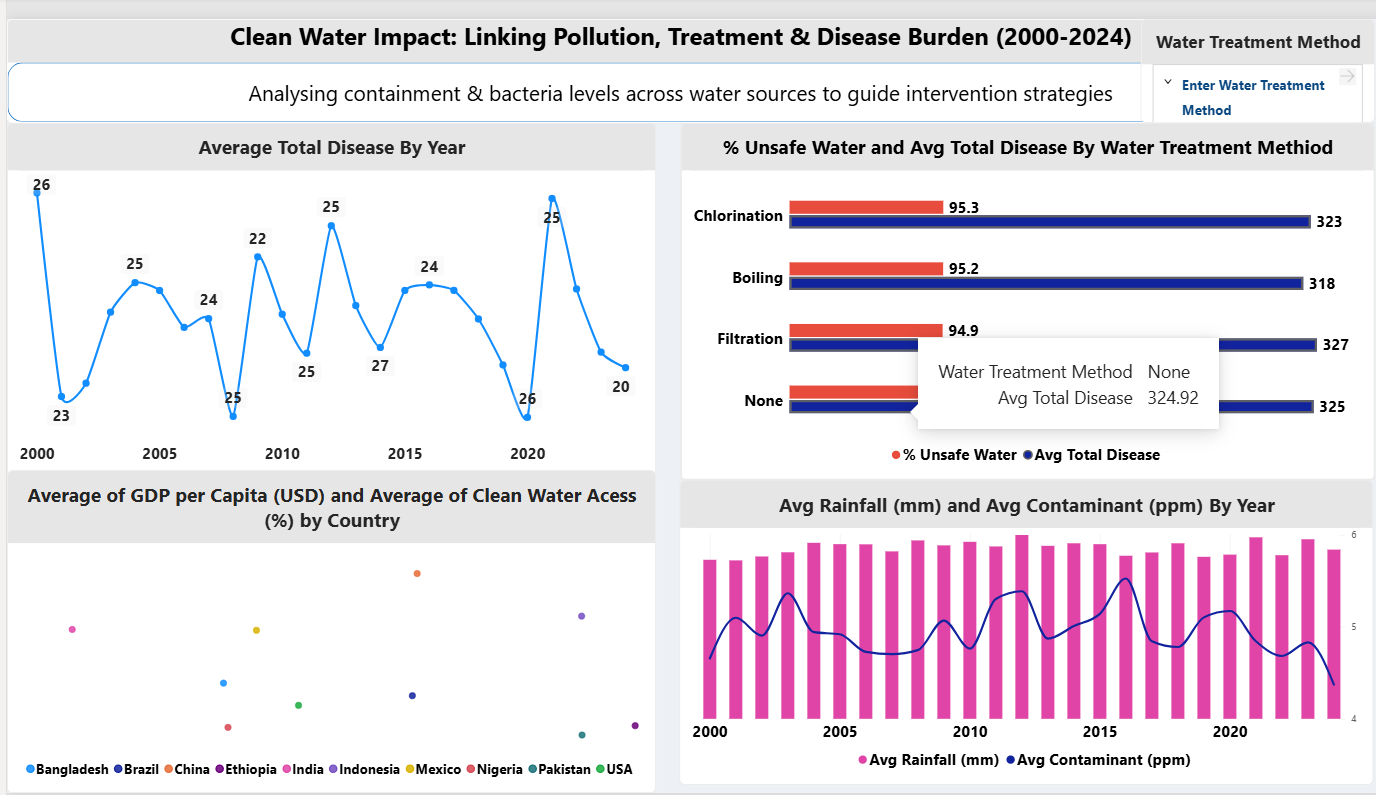

This screenshot's page, from the dashboard's own definition file:
{"tool":"powerbi","page":{"name":"Dashboard 2","canvas":[1920,1080],"ordinal":1},"visuals":[{"type":"lineChart","title":"Average Total Disease By Year","fields":{"Category":["water_pollution_disease.Year"],"Y":["water_pollution_disease.Avg Total Disease"]},"box":[0,145,905.4,498.2],"z":1},{"type":"clusteredBarChart","title":"% Unsafe Water and Avg Total Disease By Water Treatment Methiod","fields":{"Category":["water_pollution_disease.Water Treatment Method"],"Y":["water_pollution_disease.% Unsafe Water","water_pollution_disease.Avg Total Disease"]},"box":[940,145,967.9,498.2],"z":2},{"type":"scatterChart","fields":{"Series":["water_pollution_disease.Country"],"X":["Avg(water_pollution_disease.GDP per Capita (USD))"],"Y":["Avg(water_pollution_disease.Clean Water Acess (%))"]},"box":[0,630.4,905.4,450],"z":3},{"type":"lineStackedColumnComboChart","title":"Avg Rainfall (mm) and Avg Contaminant (ppm) By Year","fields":{"Category":["water_pollution_disease.Year"],"Y":["water_pollution_disease.Avg Rainfall (mm)"],"Y2":["water_pollution_disease.Avg Contaminant (ppm)"]},"box":[938.3,643.3,967.9,425],"z":4},{"type":"shape","title":"Clean  Water Impact: Linking Pollution, Treatment & Disease Burden (2000-2024)","box":[0,0,1880.4,144.6],"z":5},{"type":"textSlicer","fields":{"Values":["water_pollution_disease.Water Treatment Method"]},"box":[1581.7,0,326.8,144.6],"z":6}]}

Visuals, with their boxes in screenshot pixels (x1, y1, x2, y2), scaled from the page's 1920x1080 canvas onto the 1376x795 screenshot:
"Average Total Disease By Year" lineChart: 0,107,649,473
"% Unsafe Water and Avg Total Disease By Water Treatment Methiod" clusteredBarChart: 674,107,1367,473
scatterChart - water_pollution_disease.Country x Avg(water_pollution_disease.GDP per Capita (USD)): 0,464,649,794
"Avg Rainfall (mm) and Avg Contaminant (ppm) By Year" lineStackedColumnComboChart: 672,474,1366,786
"Clean  Water Impact: Linking Pollution, Treatment & Disease Burden (2000-2024)" shape: 0,0,1348,106
textSlicer - water_pollution_disease.Water Treatment Method: 1134,0,1368,106
